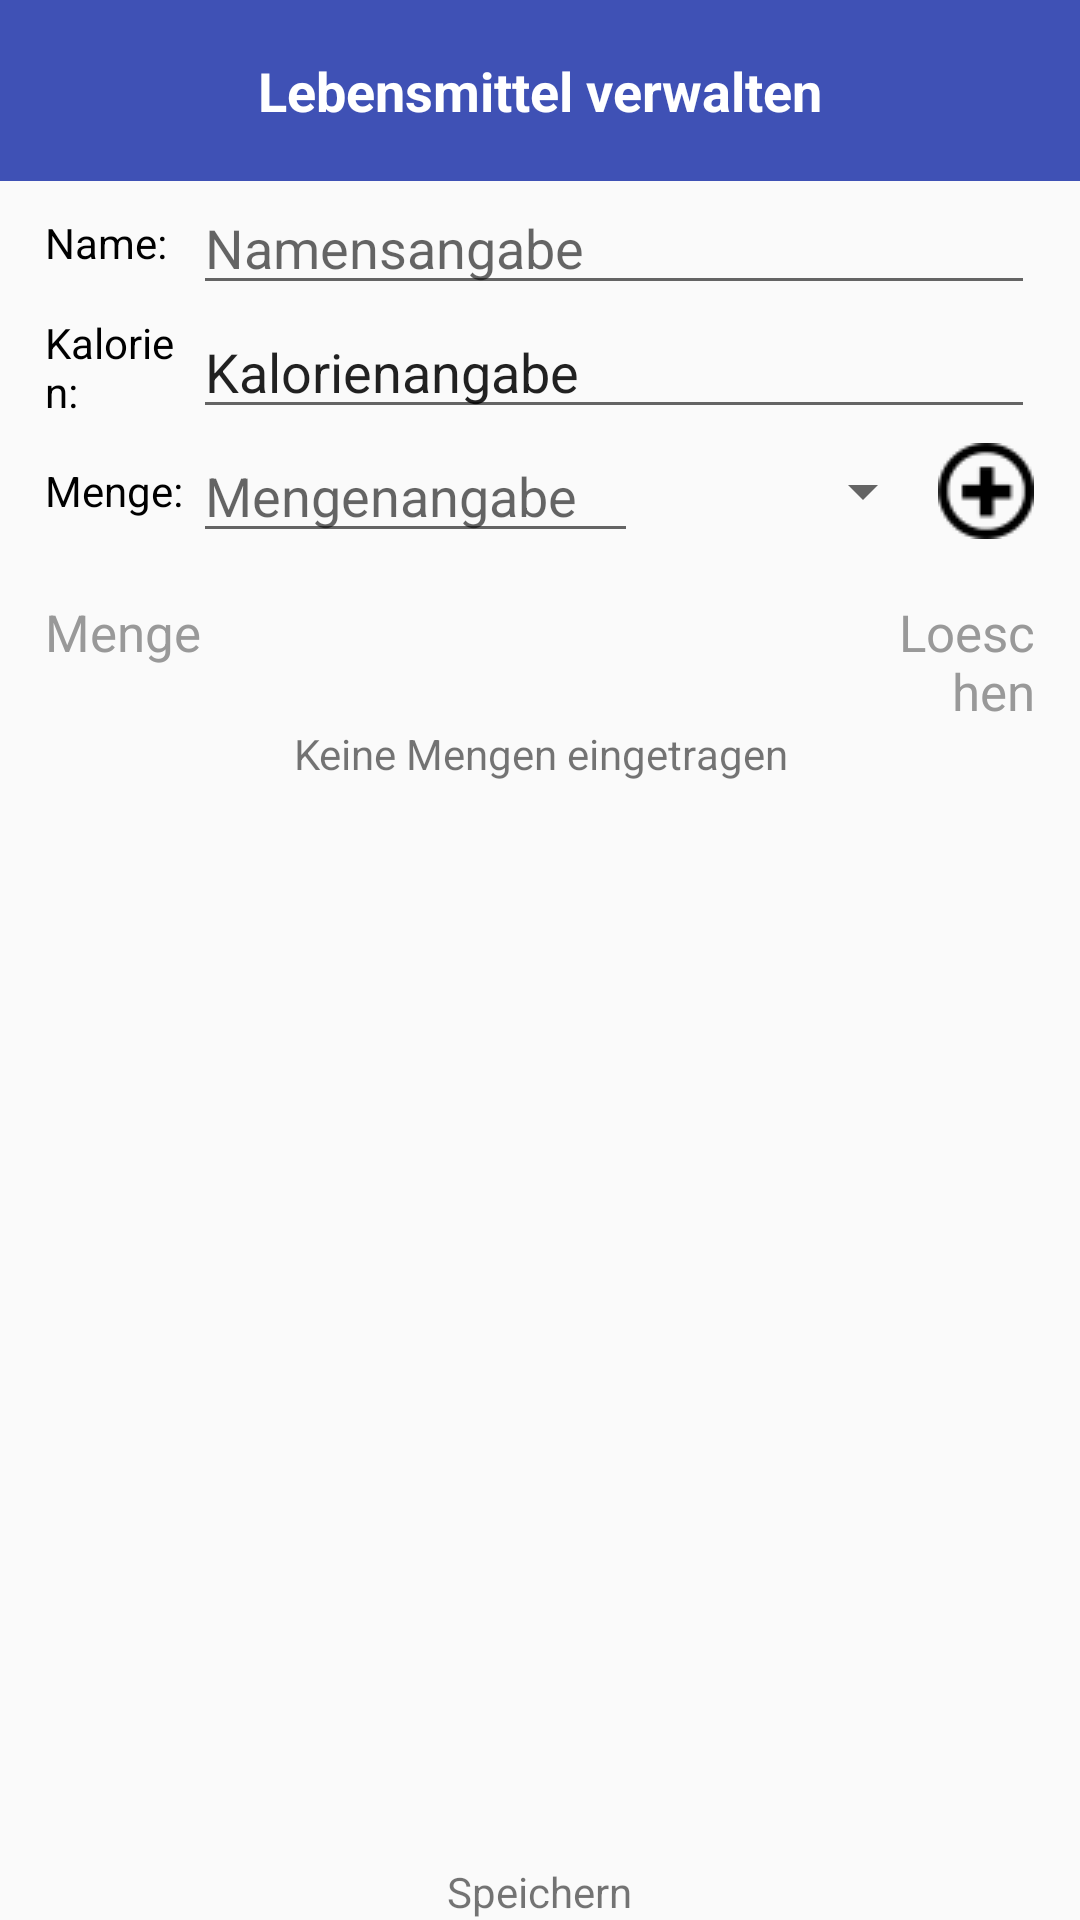

Where to tap for icons on this 1080px x 1920px app screen, as (x,y):
plus: (986,491)
